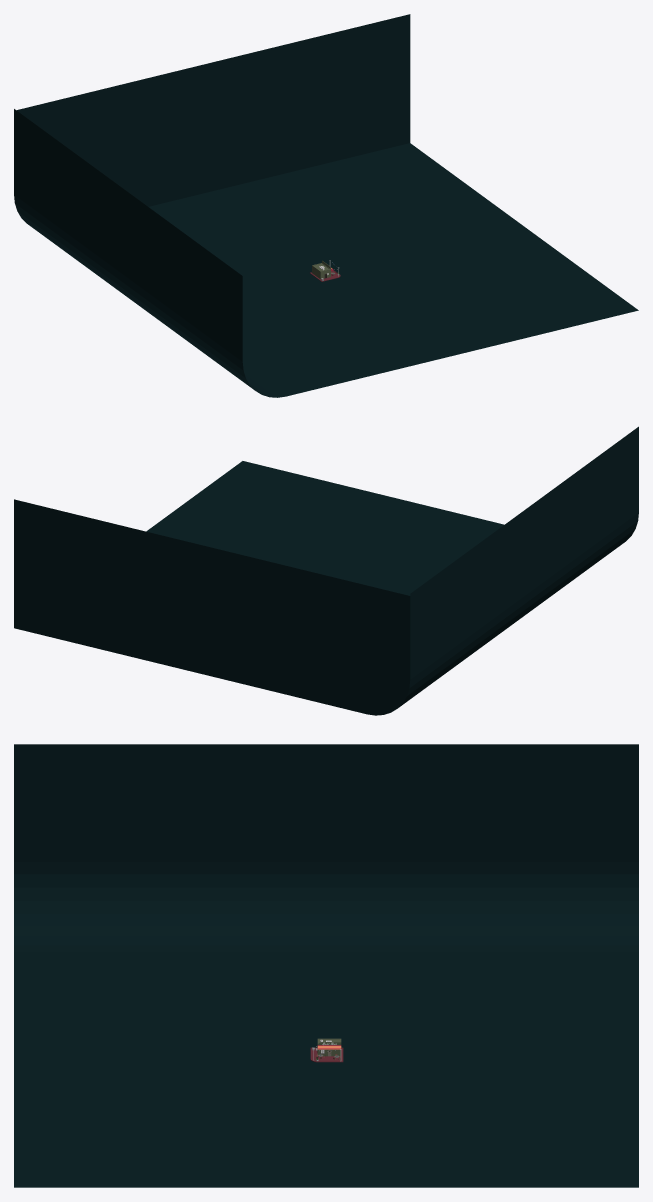
The model's file is uploads_files_2972640_House.fbx.
3 renders of one model, top to bottom at view 1: azimuth 30°, elevation 25°; view 2: azimuth 150°, elevation 25°; view 3: azimuth 270°, elevation 25°, orthographic. The views are drawn at different scales.
Visible parts, largest first — view 1: Plane.003; view 2: Plane.003; view 3: Plane.003, BezierCurve.
Boxes of the visible parts, x1,y1,x2,y2 form: Plane.003: (14,14,638,397); Plane.003: (14,426,638,715); Plane.003: (14,744,638,1187); BezierCurve: (310,1038,343,1062).
Bounding box in the file's own units: 8431 × 2671 × 8431.
